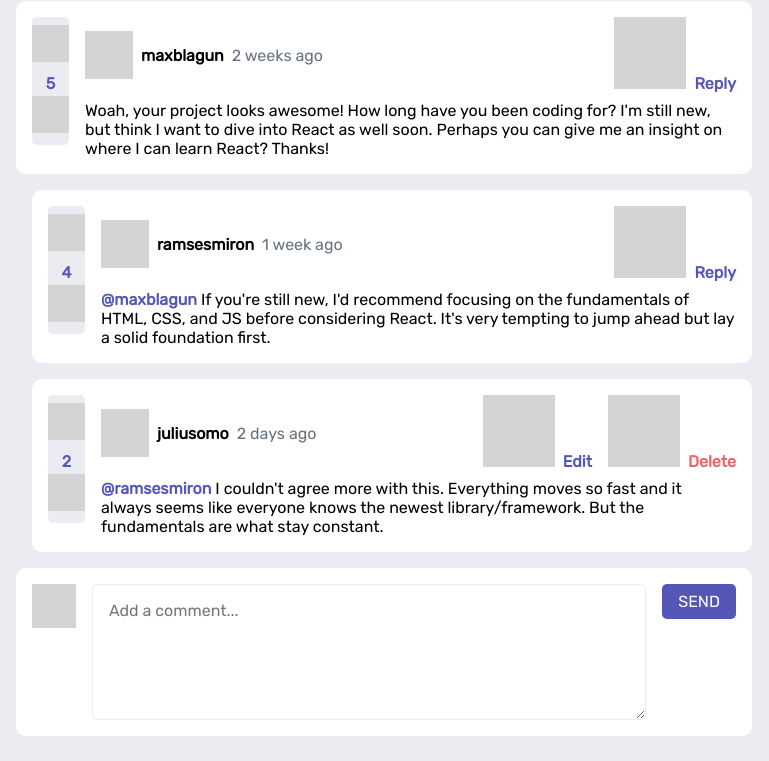
Scenario: App Integration Tests › Creating Comments › should display just now timestamp on new comment
(page scrolled)
Type "Timestamped comment" into the text box with placeholder "Add a comment...". click: (369, 652)
box: [92,584,646,720]
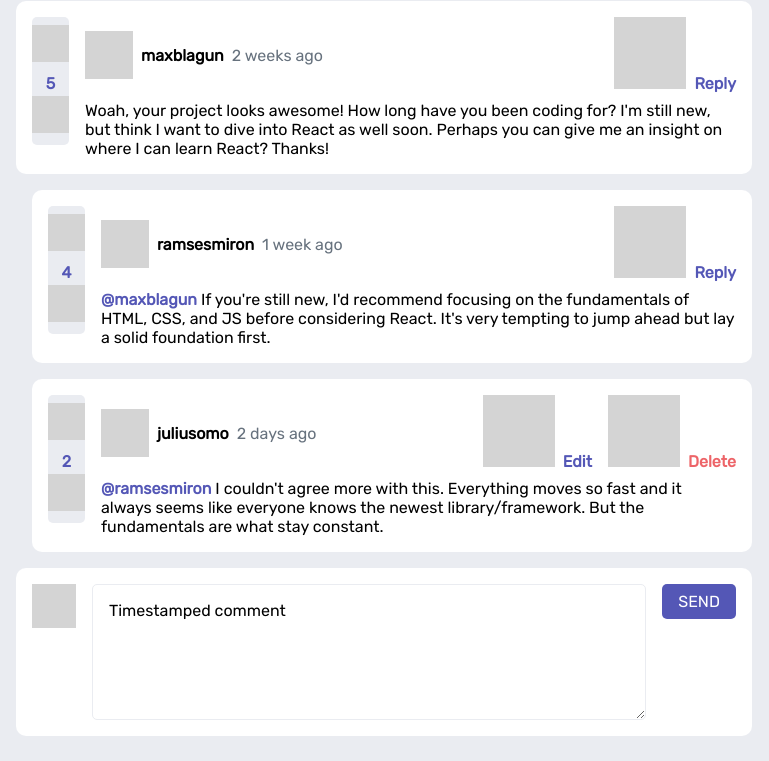
Click the button "send". click: (699, 602)
box: [662,584,736,619]
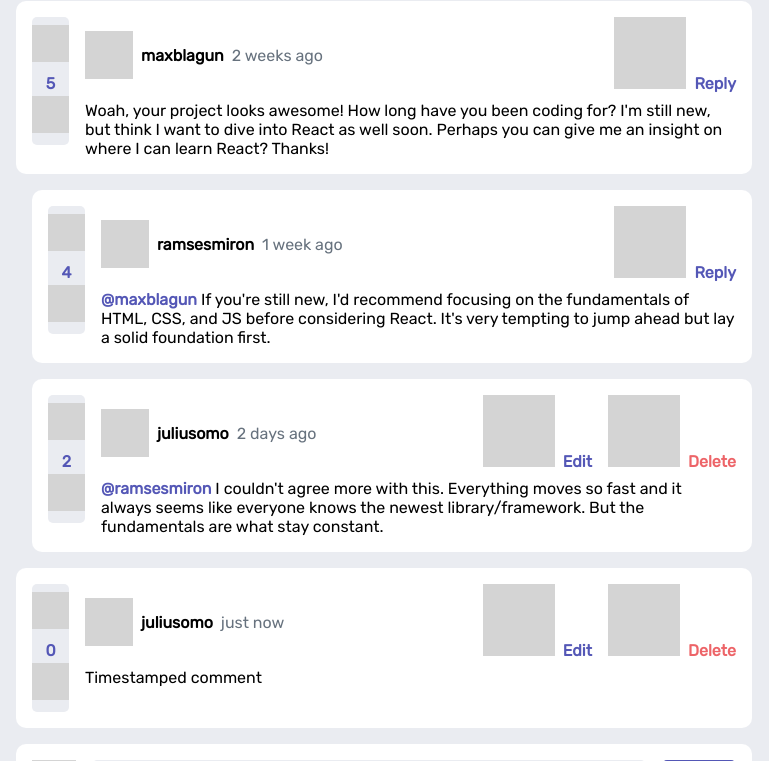
Check: the text "just now" is shown, box [221,612,284,632]
